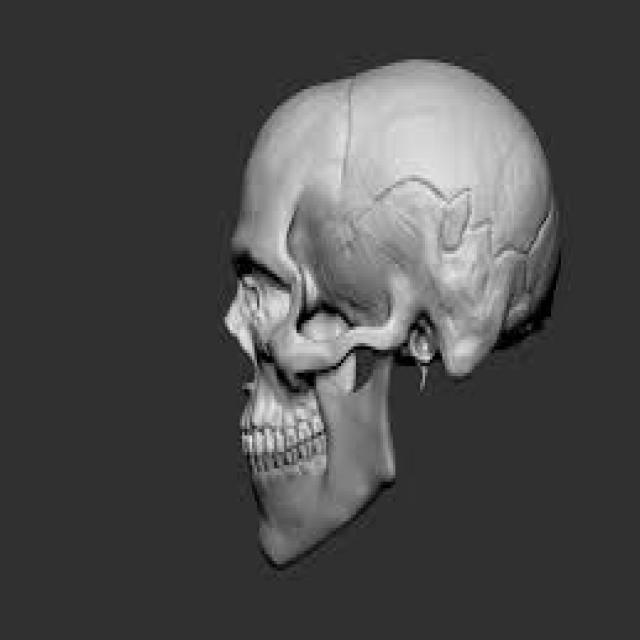skull: (219, 40, 566, 580)
